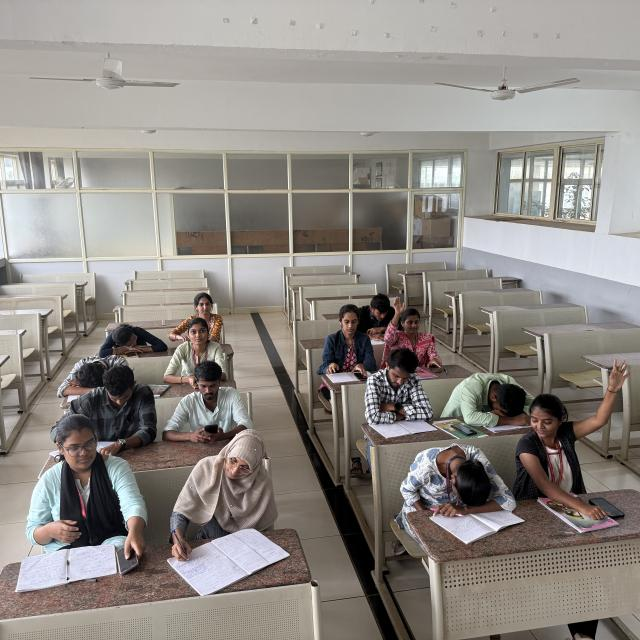Hand Rising: (525, 360, 627, 490), (386, 290, 444, 362)
Reading: (70, 367, 152, 455)
Sleeping: (398, 444, 517, 512), (446, 371, 552, 423), (57, 354, 136, 396), (102, 316, 168, 355)
Using Phone: (46, 418, 146, 576), (164, 360, 253, 440)
Writing: (156, 433, 288, 574)
